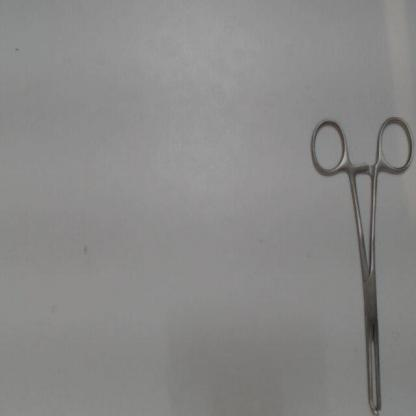Allis Tissue Forceps: (306, 108, 416, 416)
